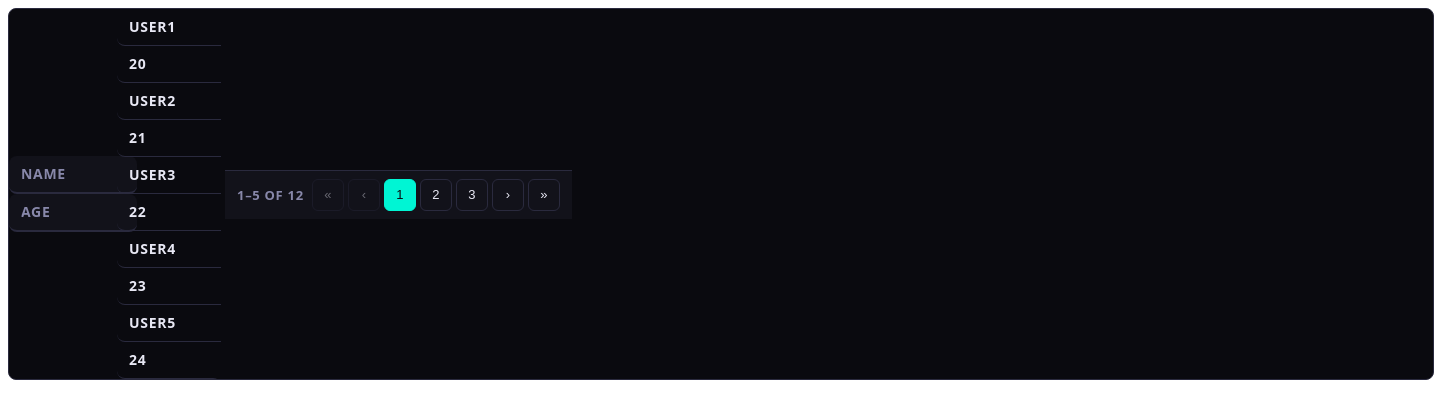
TkxDataGrid › pagination › last page renders partial rows correctly
Step 1. Click the button named "Last page" → (544,194), box [528,178,560,210]
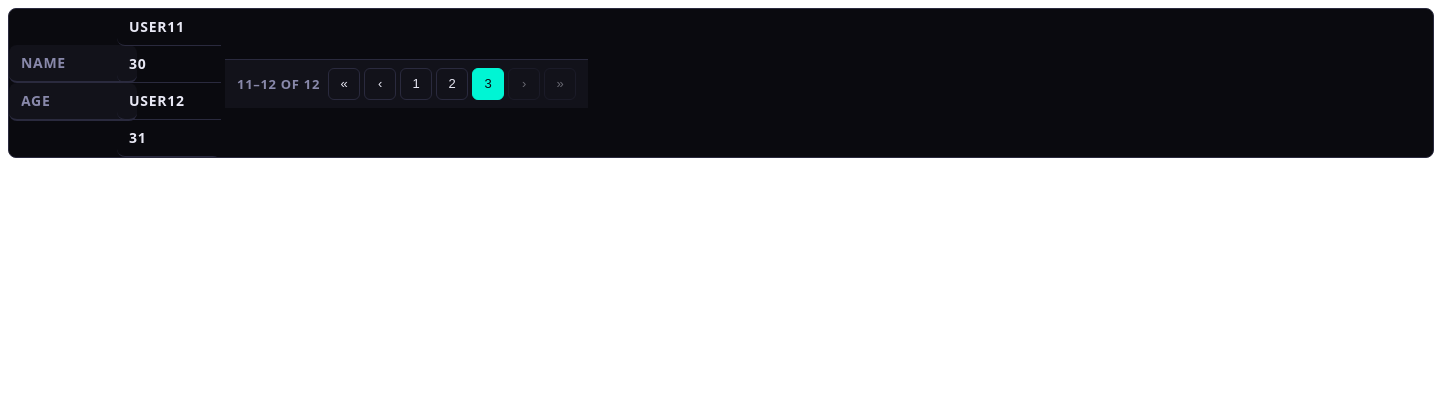
Check: the text "User11" is shown, box [117,9,221,46]
Check: the text "User12" is shown, box [117,83,221,120]
Check: the text "11–12 of 12" is shown, box [237,74,320,94]
